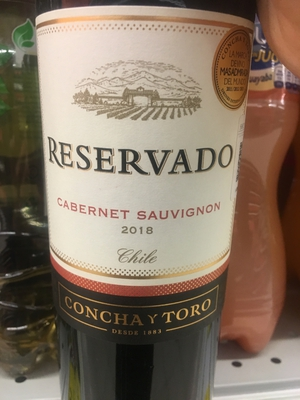reservado cabernet sauvignon: (31, 3, 256, 400)
